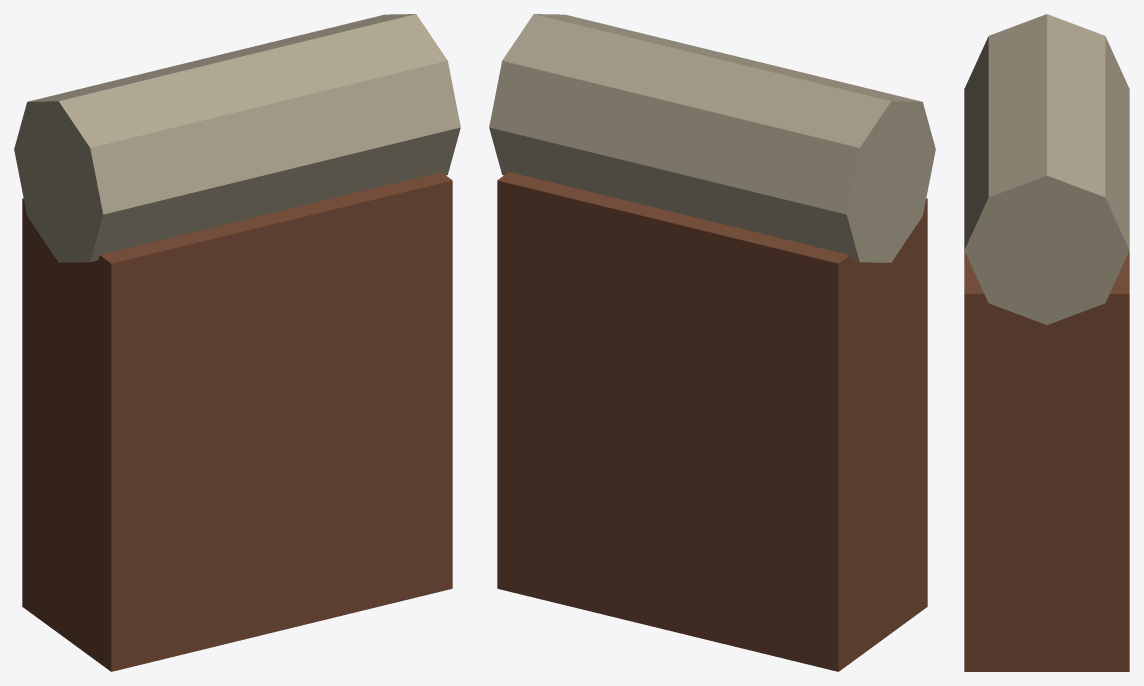
File: wk_shell_back_pack_v01.glb
3 renders of one model, left to right at view 1: azimuth 30°, elevation 25°; view 2: azimuth 150°, elevation 25°; view 3: azimuth 270°, elevation 25°, orthographic. The views are drawn at different scales.
Visible parts, largest first — view 1: GEO_Pack, GEO_Bedroll; view 2: GEO_Pack, GEO_Bedroll; view 3: GEO_Pack, GEO_Bedroll.
Boxes of the visible parts, x1=… form: GEO_Pack: x1=22, y1=172, x2=452, y2=671; GEO_Bedroll: x1=14, y1=14, x2=460, y2=262; GEO_Pack: x1=497, y1=172, x2=927, y2=671; GEO_Bedroll: x1=489, y1=14, x2=935, y2=262; GEO_Pack: x1=964, y1=251, x2=1129, y2=671; GEO_Bedroll: x1=964, y1=14, x2=1129, y2=324.
Size of the model in its own units: 0.44 by 0.635 by 0.19.
